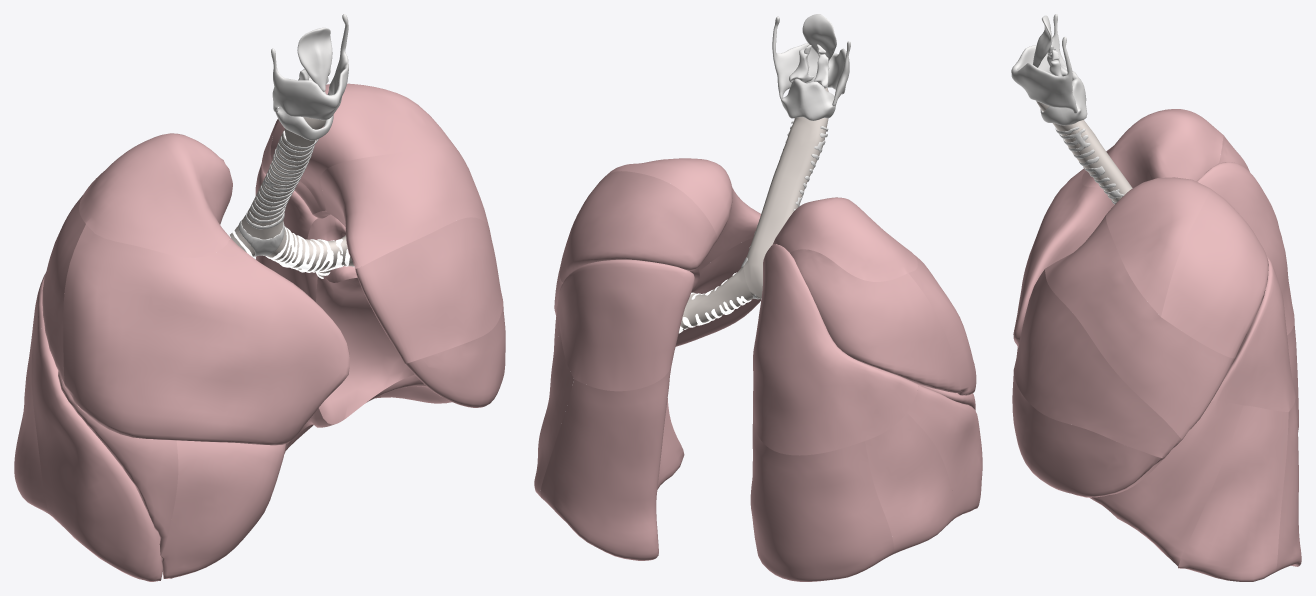
File: female_respiratory.glb
3 views of the same model, side by side, from view 1: azimuth 30°, elevation 25°; view 2: azimuth 150°, elevation 25°; view 3: azimuth 270°, elevation 25° (orthographic). The views are drawn at different scales.
Parts seen in each view (by area): view 1: VH_F_right_anterior_bronchopulmonary_segm, VH_F_right_anterior_basal_bronchopulmonary_segment, VH_F_lingula_superior_bronchopulmonary_segment, VH_F_right_apical_bronchopulmonary_segment, VH_F_left_anterior_bronchopulmonary_segment, VH_F_right_medial_bronchopulmonary_segment, VH_F_left_apical_bronchopulmonary_segment, VH_F_left_medial_basal_bronchopulmonary_segment, VH_F_lingula_inferior_bronchopulmonary_segment, VH_F_right_lateral_bronchopulmonary_segmennt, VH_F_right_posterior_bronchopulmonary_segment, VH_F_thyroid_cartilage (+14 smaller); view 2: VH_F_right_superior_bronchopulmonary_segment, VH_F_left_posterior_basal_bronchopulmonary_segment, VH_F_right_posterior_basal_bronchopulmonary_segment, VH_F_left_superior_bronchopulmonary_segment, VH_F_right_posterior_bronchopulmonary_segment, VH_F_left_posterior_bronchopulmonary_segment, VH_F_right_lateral_basal_bronchopulmonary_segment, VH_F_right_apical_bronchopulmonary_segment, VH_F_right_anterior_basal_bronchopulmonary_segment, VH_F_trachea, VH_F_left_apical_bronchopulmonary_segment, VH_F_right_anterior_bronchopulmonary_segm (+9 smaller); view 3: VH_F_left_anterior_bronchopulmonary_segment, VH_F_lingula_superior_bronchopulmonary_segment, VH_F_left_lateral_basal_bronchopulmonary_segment, VH_F_left_posterior_bronchopulmonary_segment, VH_F_left_anterior_basal_bronchopulmonary_segment, VH_F_lingula_inferior_bronchopulmonary_segment, VH_F_left_apical_bronchopulmonary_segment, VH_F_right_apical_bronchopulmonary_segment, VH_F_left_superior_bronchopulmonary_segment, VH_F_right_anterior_bronchopulmonary_segm, VH_F_right_superior_bronchopulmonary_segment, VH_F_thyroid_cartilage (+7 smaller).
Boxes of the visible parts, bbox=[...] form: VH_F_right_anterior_bronchopulmonary_segm: bbox=[63, 224, 349, 445]; VH_F_right_anterior_basal_bronchopulmonary_segment: bbox=[31, 328, 162, 581]; VH_F_lingula_superior_bronchopulmonary_segment: bbox=[355, 217, 503, 363]; VH_F_right_apical_bronchopulmonary_segment: bbox=[79, 133, 232, 257]; VH_F_left_anterior_bronchopulmonary_segment: bbox=[320, 146, 488, 268]; VH_F_right_medial_bronchopulmonary_segment: bbox=[160, 440, 285, 578]; VH_F_left_apical_bronchopulmonary_segment: bbox=[270, 83, 458, 211]; VH_F_left_medial_basal_bronchopulmonary_segment: bbox=[316, 276, 414, 424]; VH_F_lingula_inferior_bronchopulmonary_segment: bbox=[405, 304, 505, 407]; VH_F_right_lateral_bronchopulmonary_segmennt: bbox=[58, 371, 178, 555]; VH_F_right_posterior_bronchopulmonary_segment: bbox=[42, 195, 85, 386]; VH_F_thyroid_cartilage: bbox=[271, 14, 348, 120]; VH_F_right_superior_bronchopulmonary_segment: bbox=[753, 244, 918, 455]; VH_F_left_posterior_basal_bronchopulmonary_segment: bbox=[540, 366, 684, 560]; VH_F_right_posterior_basal_bronchopulmonary_segment: bbox=[750, 418, 893, 581]; VH_F_left_superior_bronchopulmonary_segment: bbox=[557, 259, 694, 391]; VH_F_right_posterior_bronchopulmonary_segment: bbox=[790, 249, 960, 392]; VH_F_left_posterior_bronchopulmonary_segment: bbox=[560, 171, 716, 282]; VH_F_right_lateral_basal_bronchopulmonary_segment: bbox=[865, 413, 955, 554]; VH_F_right_apical_bronchopulmonary_segment: bbox=[772, 197, 917, 281]; VH_F_right_anterior_basal_bronchopulmonary_segment: bbox=[907, 384, 982, 517]; VH_F_trachea: bbox=[743, 87, 828, 298]; VH_F_left_apical_bronchopulmonary_segment: bbox=[606, 158, 732, 240]; VH_F_right_anterior_bronchopulmonary_segm: bbox=[908, 254, 976, 395]; VH_F_left_anterior_bronchopulmonary_segment: bbox=[1045, 215, 1235, 439]; VH_F_lingula_superior_bronchopulmonary_segment: bbox=[1013, 269, 1182, 458]; VH_F_left_lateral_basal_bronchopulmonary_segment: bbox=[1178, 405, 1288, 581]; VH_F_left_posterior_bronchopulmonary_segment: bbox=[1161, 188, 1268, 358]; VH_F_left_anterior_basal_bronchopulmonary_segment: bbox=[1089, 400, 1243, 567]; VH_F_lingula_inferior_bronchopulmonary_segment: bbox=[1012, 372, 1163, 497]; VH_F_left_apical_bronchopulmonary_segment: bbox=[1106, 177, 1210, 316]; VH_F_right_apical_bronchopulmonary_segment: bbox=[1081, 109, 1223, 187]; VH_F_left_superior_bronchopulmonary_segment: bbox=[1211, 256, 1295, 412]; VH_F_right_anterior_bronchopulmonary_segm: bbox=[1013, 168, 1114, 347]; VH_F_right_superior_bronchopulmonary_segment: bbox=[1197, 162, 1294, 335]; VH_F_thyroid_cartilage: bbox=[1011, 14, 1077, 113].
Bounding box in the file's own units: 0.2511 × 0.2968 × 0.1531.
